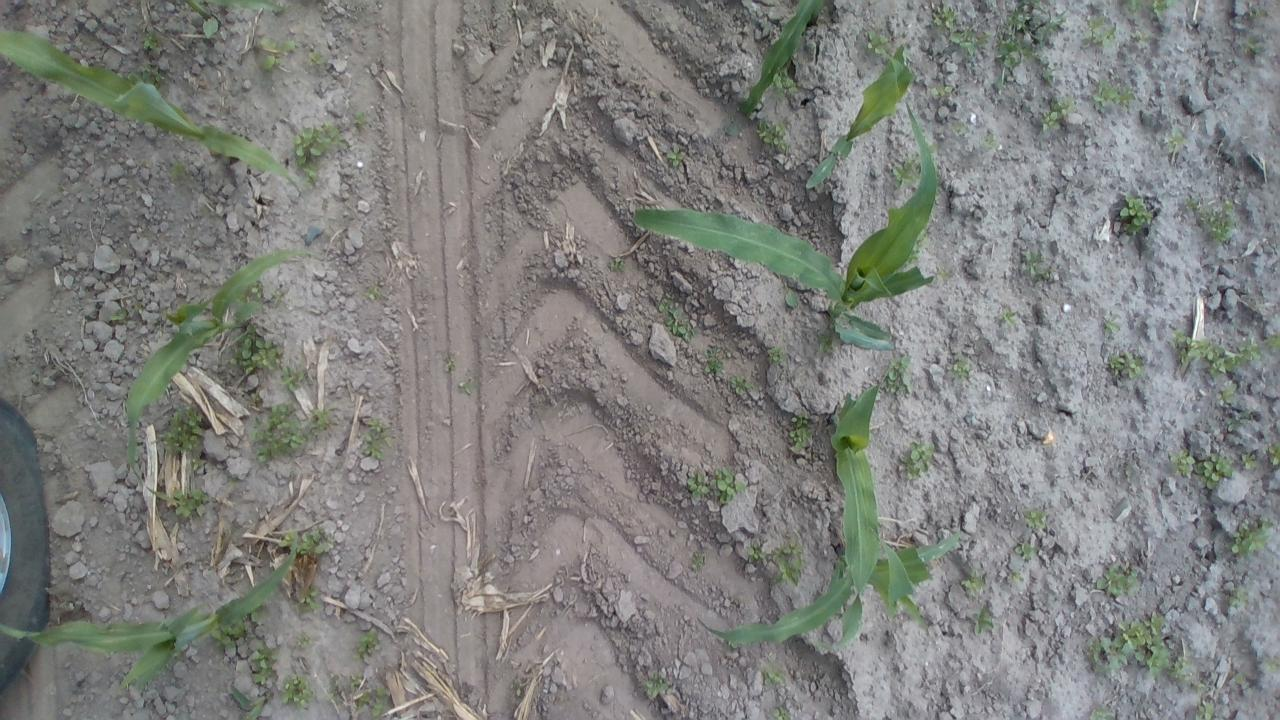Maize: (628, 101, 942, 352), (696, 381, 964, 659), (0, 28, 304, 198), (125, 250, 326, 506), (0, 538, 300, 691), (805, 42, 915, 192), (728, 1, 824, 124)
Weeds: (1080, 616, 1203, 690), (993, 0, 1058, 88), (251, 402, 328, 464), (1176, 334, 1280, 378), (226, 322, 284, 373), (326, 674, 390, 720), (748, 534, 806, 584), (686, 467, 750, 510), (258, 38, 324, 76), (283, 632, 315, 710), (1184, 198, 1236, 246), (292, 121, 344, 168), (154, 408, 205, 454), (206, 610, 258, 650), (657, 296, 695, 342), (1128, 1, 1174, 38), (1230, 518, 1274, 556), (280, 527, 334, 556), (1042, 95, 1078, 137), (1096, 566, 1142, 598), (896, 439, 934, 477), (876, 356, 916, 392), (891, 158, 929, 194), (1200, 450, 1234, 490), (170, 487, 212, 518), (1120, 194, 1154, 232), (1092, 74, 1132, 106), (360, 417, 389, 460), (784, 413, 811, 459), (1106, 352, 1148, 381), (1080, 19, 1118, 51), (246, 650, 277, 688), (944, 26, 989, 52), (756, 122, 790, 154), (1019, 245, 1050, 280), (1172, 450, 1200, 486), (354, 628, 380, 662), (969, 606, 996, 637), (770, 69, 799, 96), (759, 659, 781, 692), (134, 66, 166, 88), (865, 30, 892, 56), (728, 374, 759, 396), (930, 84, 950, 116), (1227, 579, 1249, 608), (280, 366, 308, 388), (928, 4, 952, 28), (298, 589, 322, 612), (688, 545, 708, 572), (1025, 509, 1047, 533), (1012, 540, 1038, 560), (641, 676, 667, 695), (138, 29, 156, 55), (1102, 317, 1120, 340), (351, 106, 369, 129), (1263, 442, 1280, 466), (664, 144, 684, 164), (1192, 698, 1212, 718), (1216, 388, 1234, 410), (700, 356, 723, 373), (768, 348, 788, 367), (960, 576, 979, 596), (998, 308, 1020, 325), (364, 286, 382, 304), (1262, 661, 1280, 679), (1230, 672, 1248, 690), (979, 132, 996, 150), (1168, 136, 1185, 154), (608, 258, 626, 274), (109, 310, 127, 326), (769, 707, 791, 720), (1240, 452, 1255, 470), (456, 378, 471, 395), (444, 359, 456, 374), (957, 366, 970, 378), (950, 121, 966, 130)
